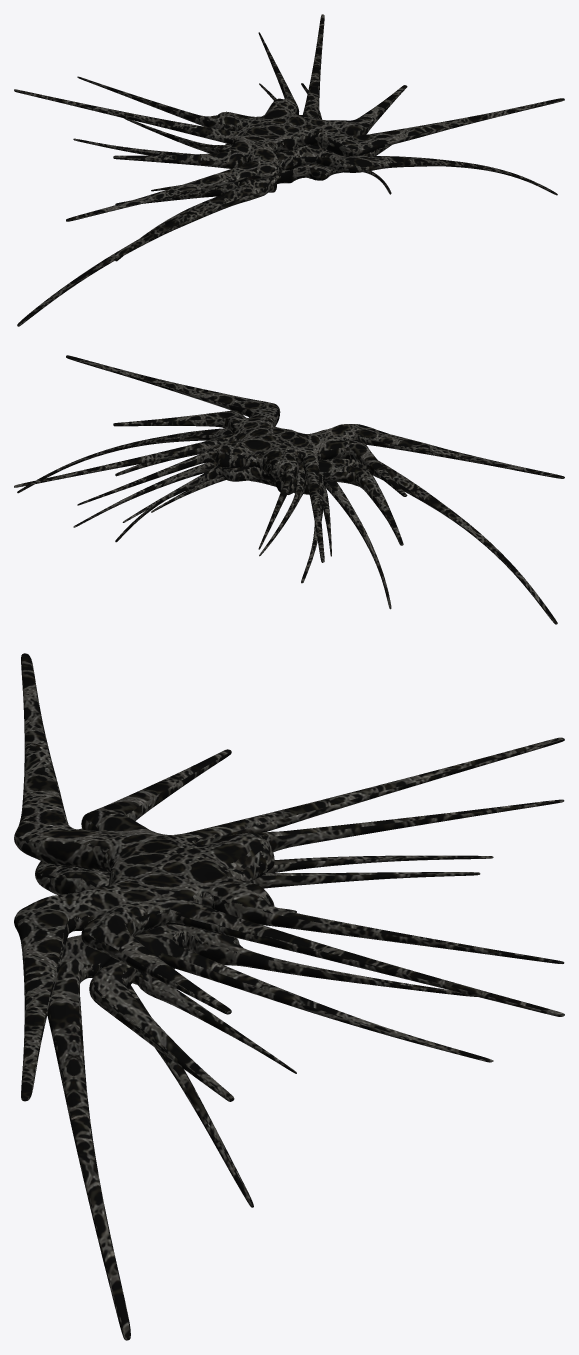
File: battlecrab.glb
3 renders of one model, top to bottom at view 1: azimuth 30°, elevation 25°; view 2: azimuth 150°, elevation 25°; view 3: azimuth 270°, elevation 25°, orthographic. The views are drawn at different scales.
Parts seen in each view (by area): view 1: battlecrab; view 2: battlecrab; view 3: battlecrab.
Boxes of the visible parts, x1,y1,x2,y2 form: battlecrab: (14, 14, 564, 326); battlecrab: (14, 355, 564, 624); battlecrab: (14, 653, 564, 1340).
Size of the model in its own units: 1312 by 302 by 633.
1 material, 1 textured.
